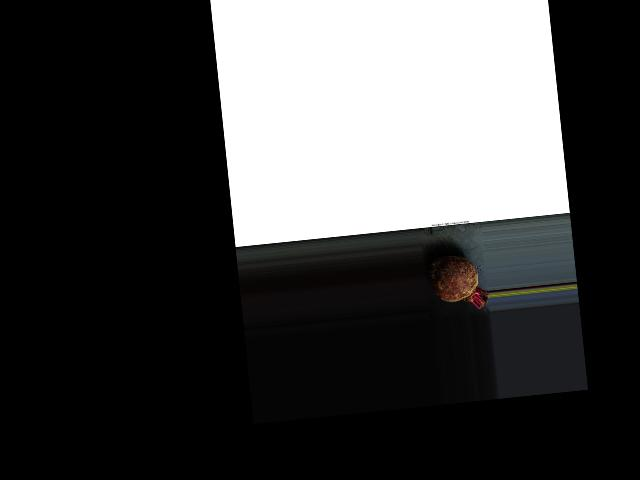beet: (428, 252, 489, 312)
